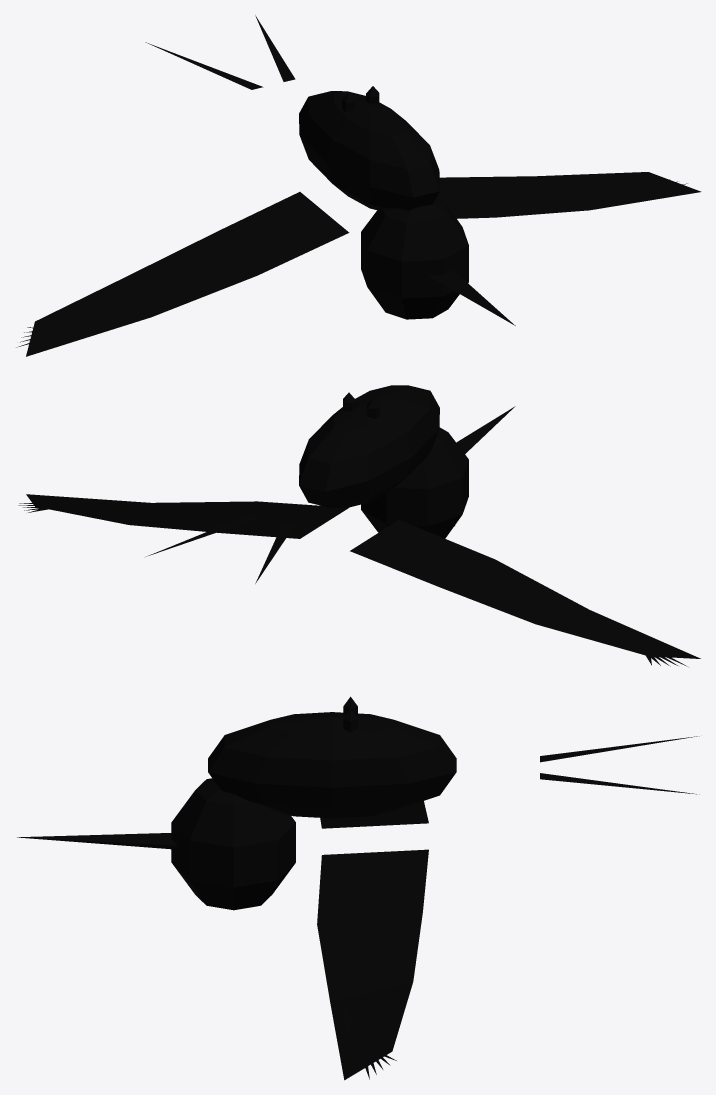
The model's file is gliding_04.glb.
The picture shows the model from 3 angles, top to bottom: view 1: azimuth 30°, elevation 25°; view 2: azimuth 150°, elevation 25°; view 3: azimuth 270°, elevation 25°; orthographic projection. The views are drawn at different scales.
Parts seen in each view (by area): view 1: BirdBody; view 2: BirdBody; view 3: BirdBody.
Part boxes in pixels (x1,y1,x2,y2): BirdBody: (16, 15, 701, 356); BirdBody: (18, 385, 700, 666); BirdBody: (17, 696, 699, 1080).
Size of the model in its own units: 1.13 by 0.3019 by 0.9215.
1 material, 1 textured.
